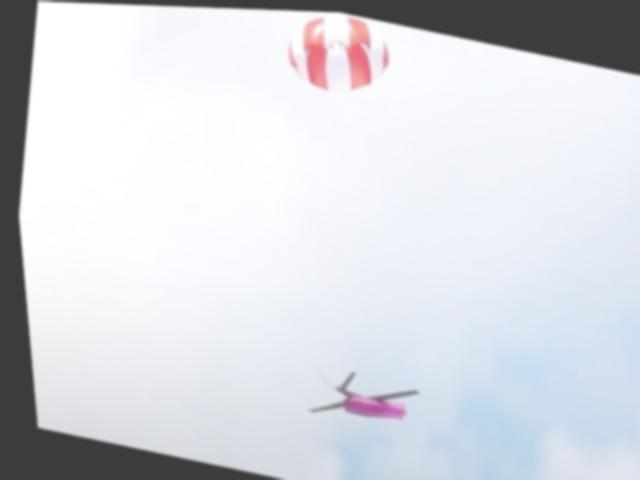iha: (294, 355, 420, 440)
